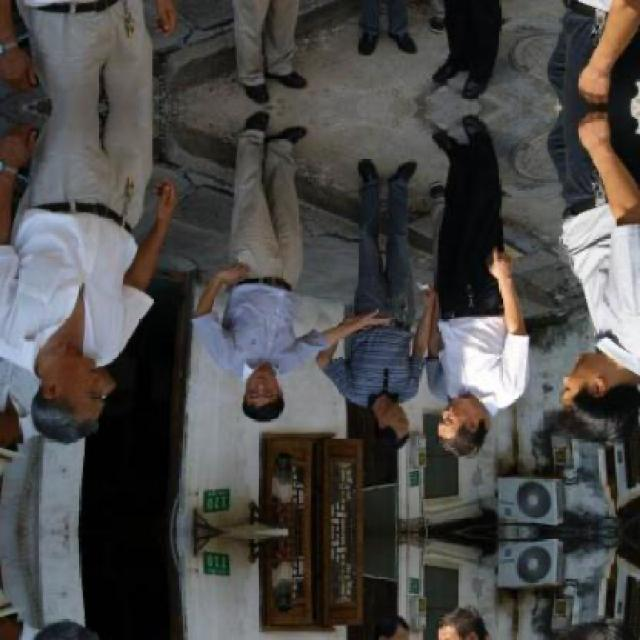sin casco: (0, 349, 143, 474), (210, 348, 299, 430), (366, 378, 429, 472), (568, 372, 640, 453), (456, 415, 505, 474)
